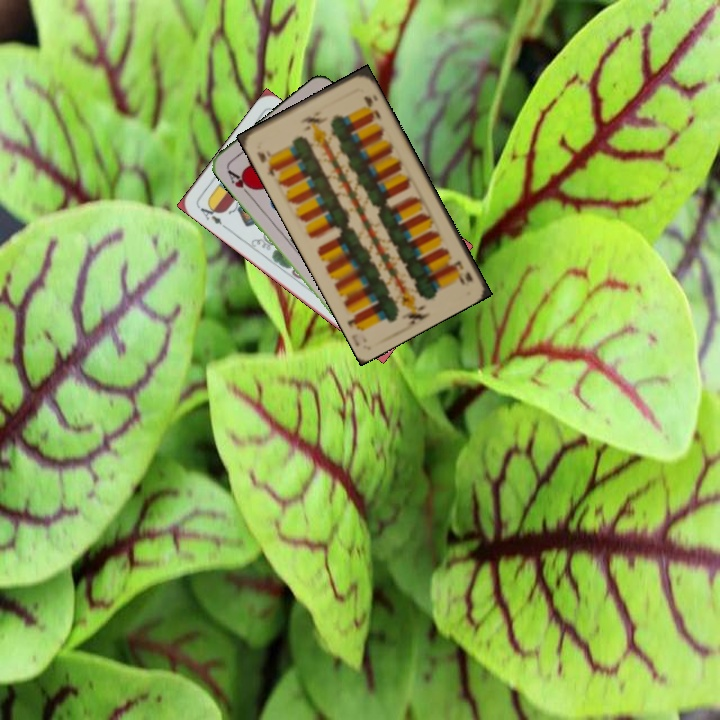E10: (253, 146, 282, 179), (448, 256, 475, 288)
EA: (196, 200, 229, 231)
HA: (223, 166, 256, 199)
